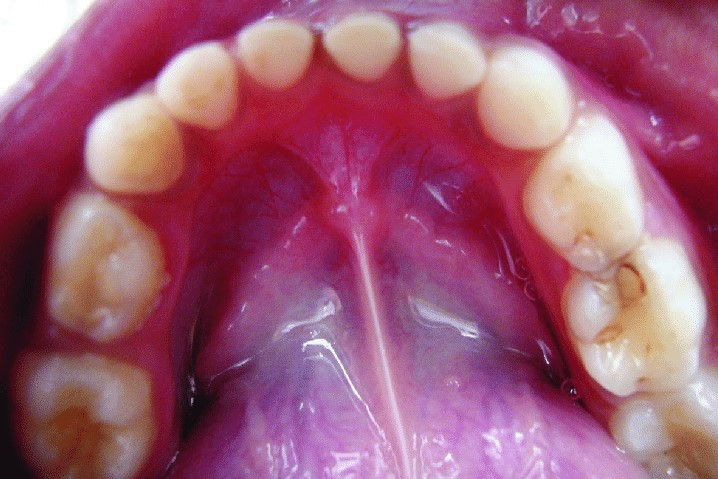LL1BC_healthy: (525, 123, 646, 262)
LL1M_healthy: (616, 386, 718, 479)
LL2BC_decay: (563, 250, 707, 386)
LLCI_healthy: (322, 13, 399, 80)
LLC_healthy: (485, 46, 571, 149)
LLLI_healthy: (407, 23, 488, 103)
LR1BC_healthy: (45, 200, 167, 325)
LR2BC_healthy: (20, 362, 162, 476)
LRCI_healthy: (237, 20, 319, 91)
LRC_healthy: (87, 103, 191, 189)
LRLI_healthy: (164, 43, 245, 123)
